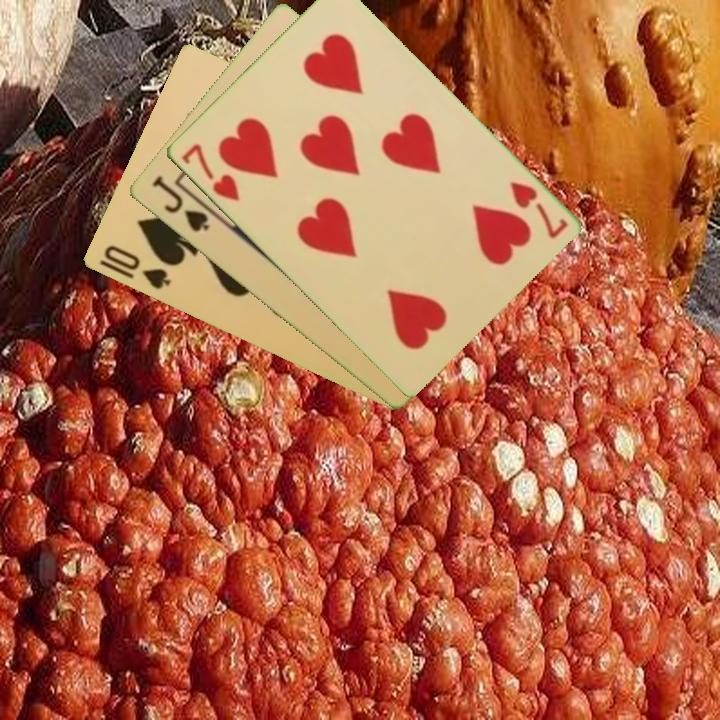10s: (100, 241, 173, 293)
7h: (177, 140, 243, 205), (505, 178, 571, 242)
Js: (147, 172, 212, 236)
